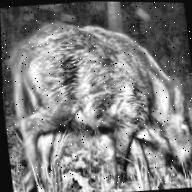boar: (1, 4, 192, 192)
